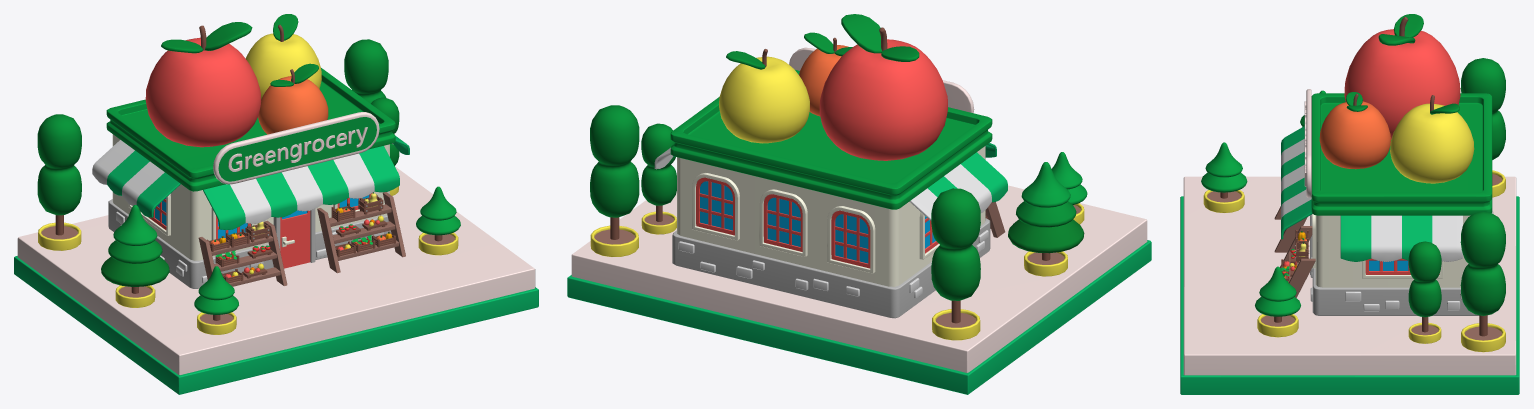
File: Store_Island_10.glb
3 views of the same model, side by side, from view 1: azimuth 30°, elevation 25°; view 2: azimuth 150°, elevation 25°; view 3: azimuth 270°, elevation 25° (orthographic). The views are drawn at different scales.
Visible parts, largest first — view 1: Store_10_Base_1, Store_10_Greengrocery_Shop_1, Store_10_Apple_Sigh_1, Store_10_Tree_1, Store_10_Tree_3, Store_10_Apple_Sigh_3, Store_10_Apple_Sigh_2, Store_10_Shelf_1, Store_10_Tree_4, Store_10_Tree_6, Store_10_Tree_2, Store_10_Shelf_2 (+1 smaller); view 2: Store_10_Greengrocery_Shop_1, Store_10_Base_1, Store_10_Apple_Sigh_1, Store_10_Apple_Sigh_2, Store_10_Tree_1, Store_10_Tree_4, Store_10_Tree_3, Store_10_Tree_5, Store_10_Apple_Sigh_3, Store_10_Tree_2; view 3: Store_10_Base_1, Store_10_Greengrocery_Shop_1, Store_10_Apple_Sigh_1, Store_10_Apple_Sigh_2, Store_10_Tree_4, Store_10_Apple_Sigh_3, Store_10_Tree_5, Store_10_Tree_1, Store_10_Tree_2, Store_10_Tree_6, Store_10_Shelf_1, Store_10_Shelf_2.
Boxes of the visible parts, x1,y1,x2,y2 form: Store_10_Base_1: (14,166,538,394); Store_10_Greengrocery_Shop_1: (92,68,409,288); Store_10_Apple_Sigh_1: (145,22,261,147); Store_10_Tree_1: (37,114,81,250); Store_10_Tree_3: (101,205,169,307); Store_10_Apple_Sigh_3: (258,63,328,134); Store_10_Apple_Sigh_2: (245,14,321,99); Store_10_Shelf_1: (317,192,405,273); Store_10_Tree_4: (344,39,388,103); Store_10_Tree_6: (416,186,460,255); Store_10_Tree_2: (194,266,238,334); Store_10_Shelf_2: (198,220,287,286); Store_10_Greengrocery_Shop_1: (654,47,1007,318); Store_10_Base_1: (567,185,1151,394); Store_10_Apple_Sigh_1: (819,14,947,160); Store_10_Apple_Sigh_2: (719,49,809,143); Store_10_Tree_1: (931,188,980,340); Store_10_Tree_4: (590,105,639,256); Store_10_Tree_3: (1008,162,1084,276); Store_10_Tree_5: (641,123,676,234); Store_10_Apple_Sigh_3: (799,32,852,116); Store_10_Tree_2: (1051,152,1087,224); Store_10_Base_1: (1180,176,1519,394); Store_10_Greengrocery_Shop_1: (1281,89,1493,315); Store_10_Apple_Sigh_1: (1344,14,1460,139); Store_10_Apple_Sigh_2: (1390,95,1474,183); Store_10_Tree_4: (1460,211,1505,352); Store_10_Apple_Sigh_3: (1319,92,1390,169); Store_10_Tree_5: (1408,241,1441,343); Store_10_Tree_1: (1460,58,1505,197); Store_10_Tree_2: (1201,142,1247,212); Store_10_Tree_6: (1255,266,1300,337); Store_10_Shelf_1: (1280,226,1315,297); Store_10_Shelf_2: (1274,206,1307,252).
Size of the model in its own units: 16.01 by 10.79 by 12.56.
Materials: 79 (79 with a texture image).
